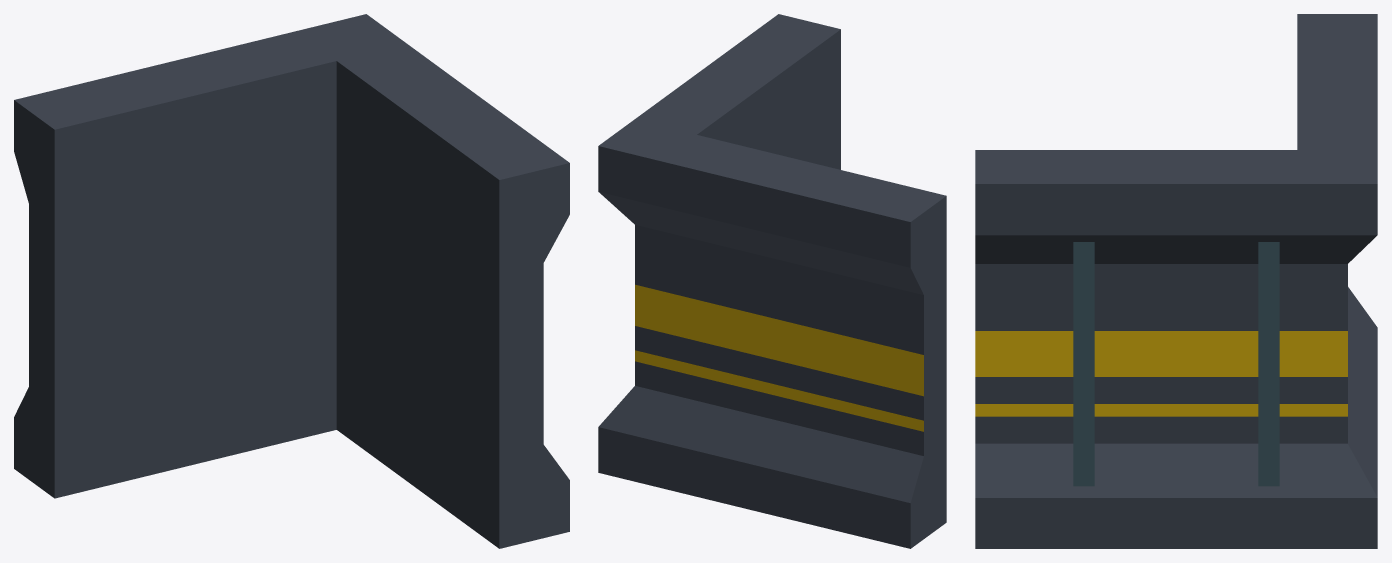
The model's file is Sci-fi_wall_corner_out.fbx.
3 views of the same model, side by side, from view 1: azimuth 30°, elevation 25°; view 2: azimuth 150°, elevation 25°; view 3: azimuth 270°, elevation 25° (orthographic). The views are drawn at different scales.
Visible parts, largest first — view 1: Sci-fi_wall.002; view 2: Sci-fi_wall.002; view 3: Sci-fi_wall.002.
Boxes of the visible parts, left/top/right/bottom form: Sci-fi_wall.002: left=14, top=14, right=569, bottom=548; Sci-fi_wall.002: left=598, top=14, right=946, bottom=548; Sci-fi_wall.002: left=975, top=14, right=1377, bottom=548.
Bounding box in the file's own units: 2 × 2 × 2.
